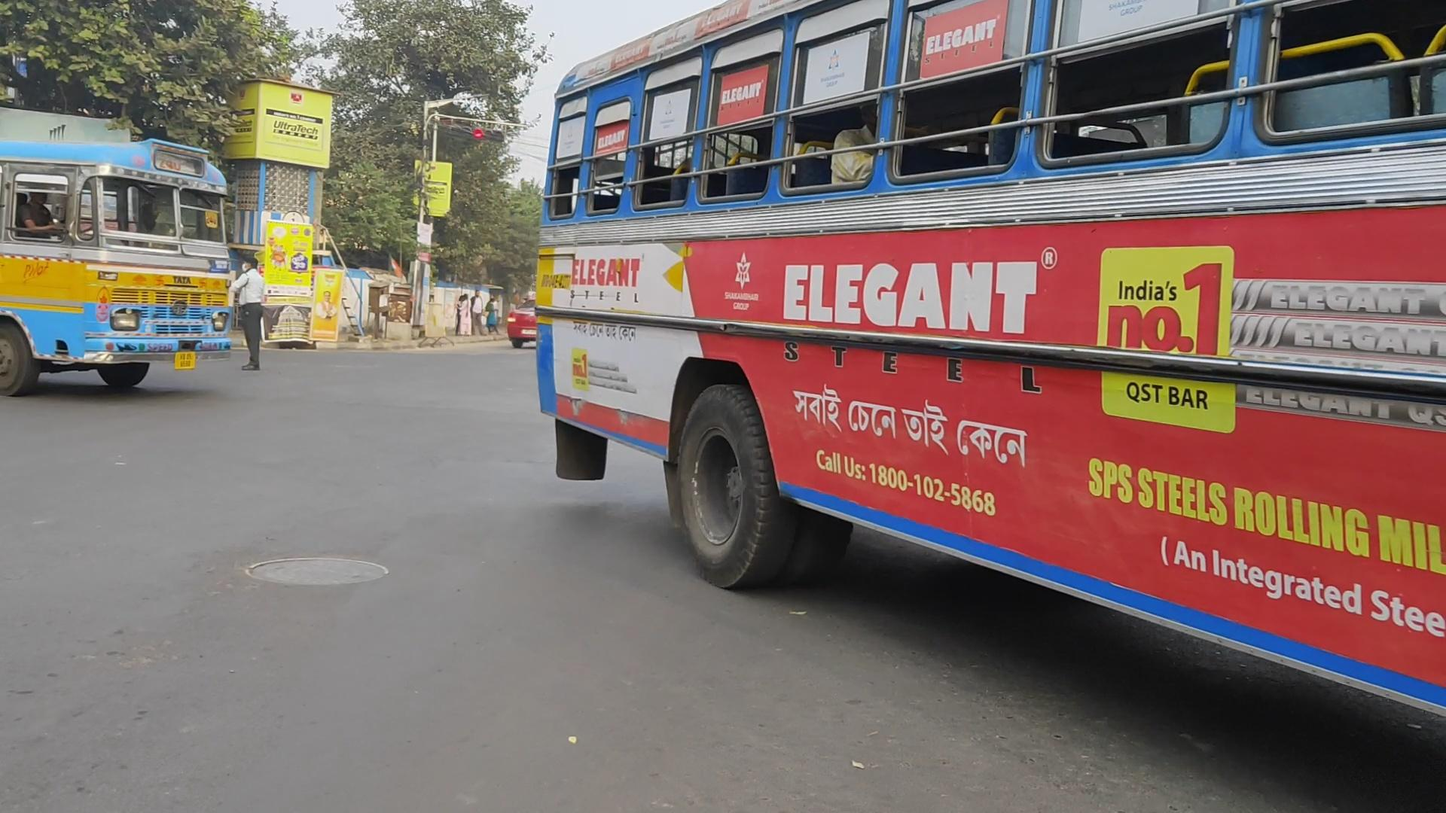Bus: (534, 2, 1446, 728), (1, 137, 234, 397)
